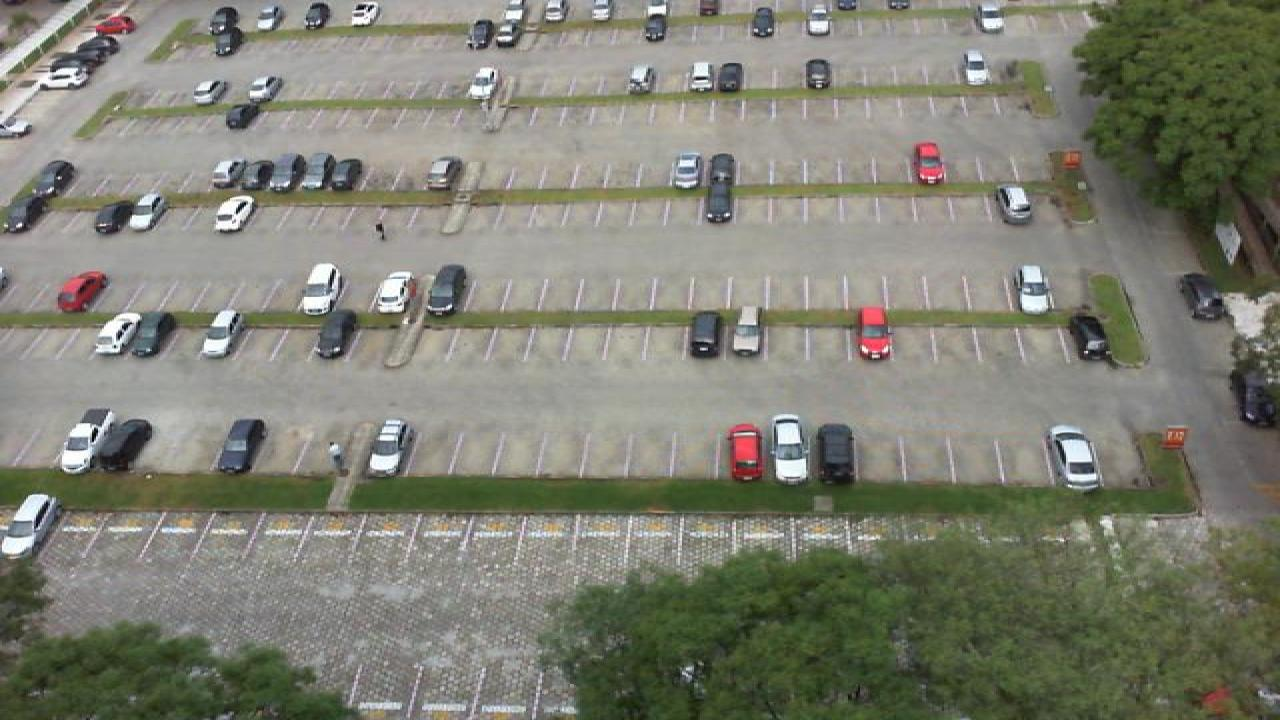Car: (0, 494, 60, 559), (1048, 424, 1104, 491), (56, 407, 110, 474), (90, 418, 150, 474), (768, 414, 812, 485), (216, 418, 268, 474), (1230, 369, 1280, 427), (814, 423, 858, 485), (364, 418, 410, 476), (724, 423, 766, 483), (92, 310, 142, 358), (422, 264, 470, 314), (198, 310, 246, 359), (310, 310, 358, 359), (298, 263, 342, 316), (56, 270, 108, 313), (128, 312, 176, 358), (1182, 272, 1226, 322), (684, 309, 726, 359), (856, 305, 894, 360), (1012, 263, 1052, 315), (1066, 314, 1110, 361), (368, 270, 414, 314), (26, 159, 78, 197), (0, 192, 48, 233), (212, 194, 260, 234), (730, 306, 766, 357), (994, 182, 1034, 225), (88, 198, 134, 235), (124, 191, 164, 232), (912, 140, 946, 184), (240, 156, 280, 192), (272, 156, 312, 192), (702, 183, 736, 225), (424, 155, 464, 190), (210, 158, 250, 192), (42, 62, 90, 90), (304, 152, 338, 191), (668, 152, 702, 191), (704, 152, 738, 191), (242, 73, 282, 106), (960, 48, 994, 86), (972, 0, 1008, 35), (60, 48, 108, 74), (330, 158, 366, 192), (466, 66, 500, 102), (190, 76, 230, 106), (222, 102, 262, 131), (212, 26, 248, 57), (802, 57, 834, 91), (206, 4, 242, 34), (626, 64, 658, 97), (94, 12, 138, 36), (804, 3, 834, 37), (464, 18, 494, 51), (748, 5, 778, 38), (348, 0, 384, 27), (80, 33, 122, 56), (686, 62, 716, 94), (494, 15, 524, 47), (642, 9, 670, 43), (716, 61, 744, 94), (254, 5, 286, 31), (302, 1, 334, 27), (538, 0, 564, 22), (590, 0, 616, 22), (502, 0, 528, 21), (696, 0, 722, 17)
